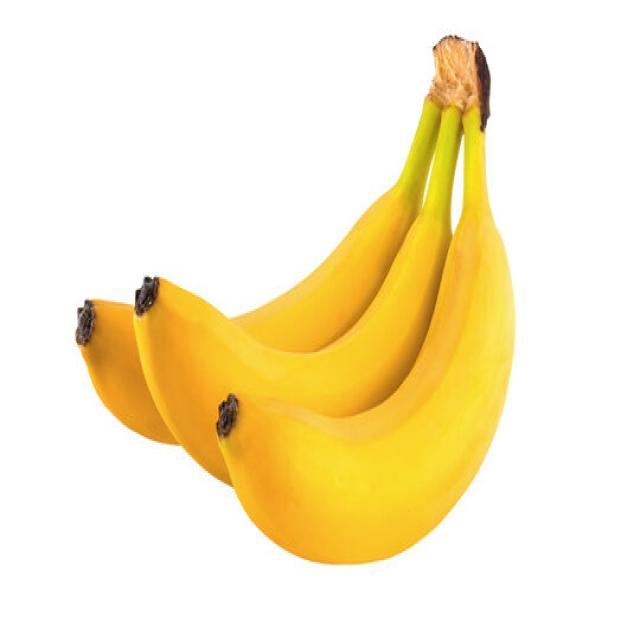banana: (76, 87, 440, 447), (216, 136, 516, 564), (133, 112, 456, 489)
